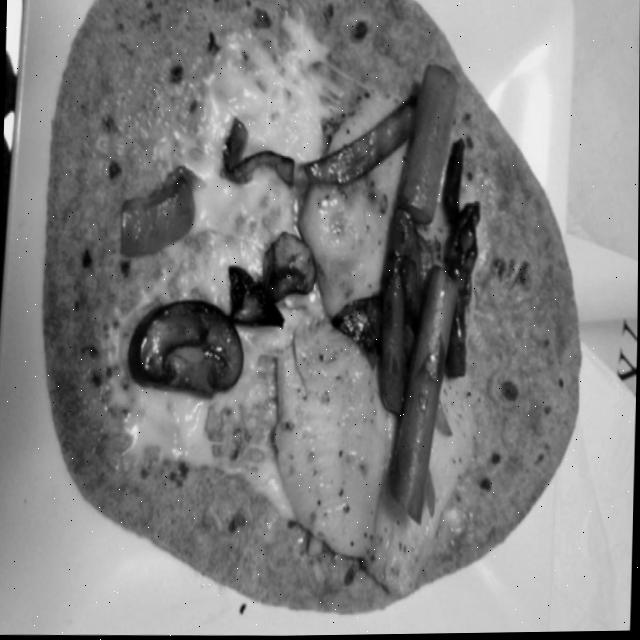面包点心: (6, 0, 636, 606)
